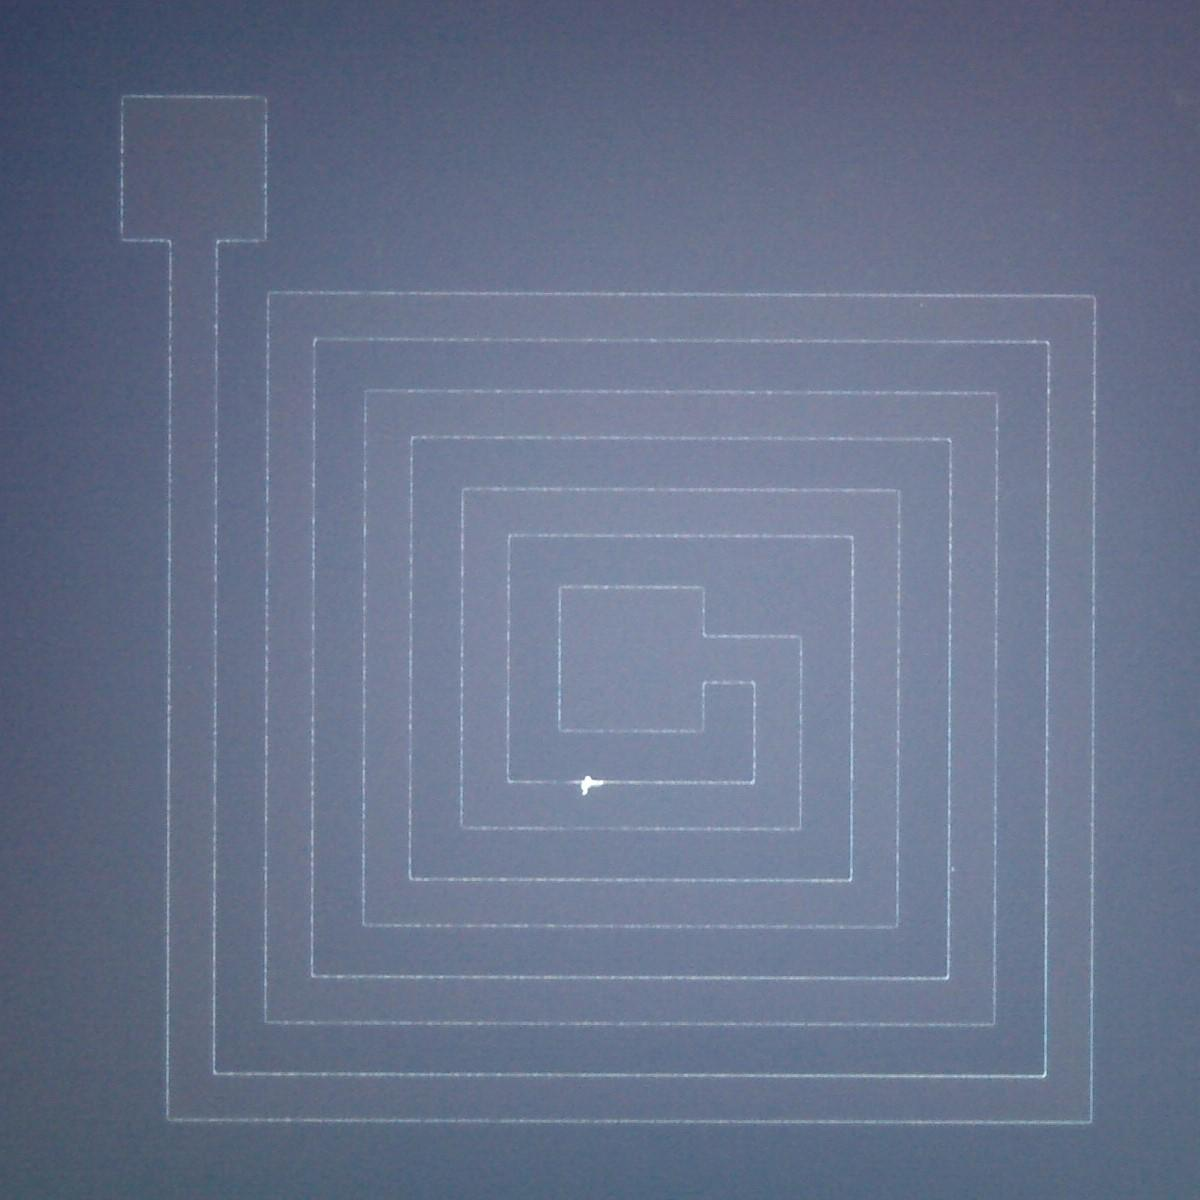B_point: (580, 775, 604, 797)
